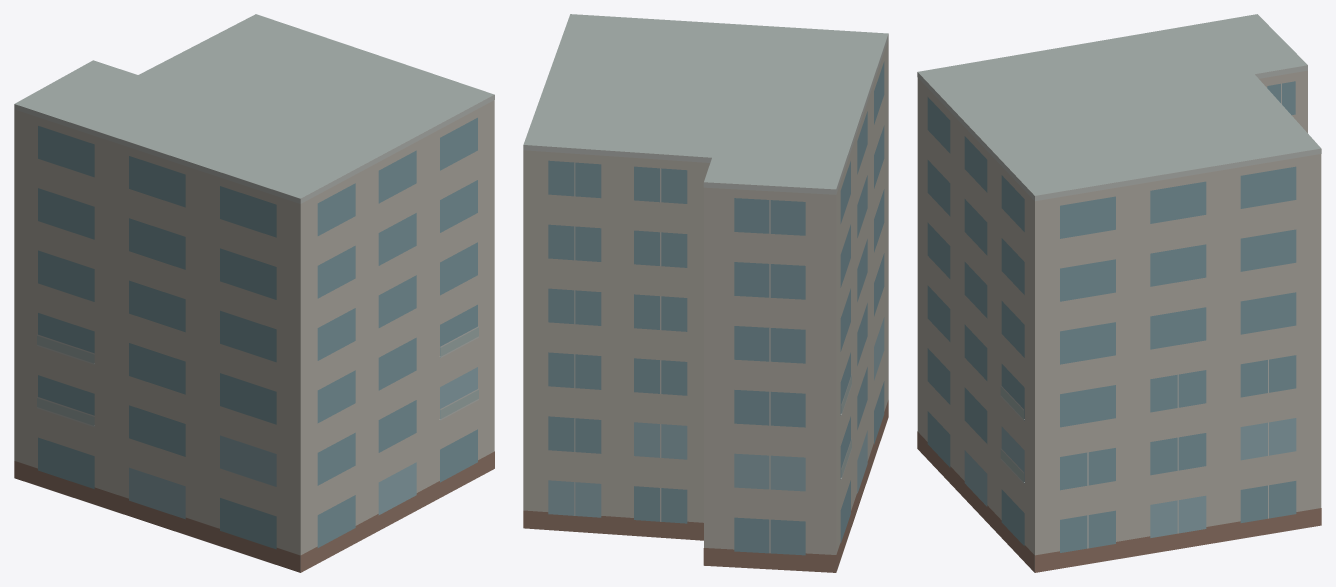
The model's file is survey-upis-32888773.glb.
The picture shows the model from 3 angles, left to right: view 1: azimuth 30°, elevation 25°; view 2: azimuth 150°, elevation 25°; view 3: azimuth 270°, elevation 25°; orthographic projection. The views are drawn at different scales.
Parts seen in each view (by area): view 1: survey-upis-32888773.tmp; view 2: survey-upis-32888773.tmp; view 3: survey-upis-32888773.tmp.
Part boxes in pixels (bbox=[...]): survey-upis-32888773.tmp: bbox=[14, 14, 494, 572]; survey-upis-32888773.tmp: bbox=[523, 14, 888, 572]; survey-upis-32888773.tmp: bbox=[917, 14, 1321, 572].
Size of the model in its own units: 17.81 by 17.2 by 16.71.
